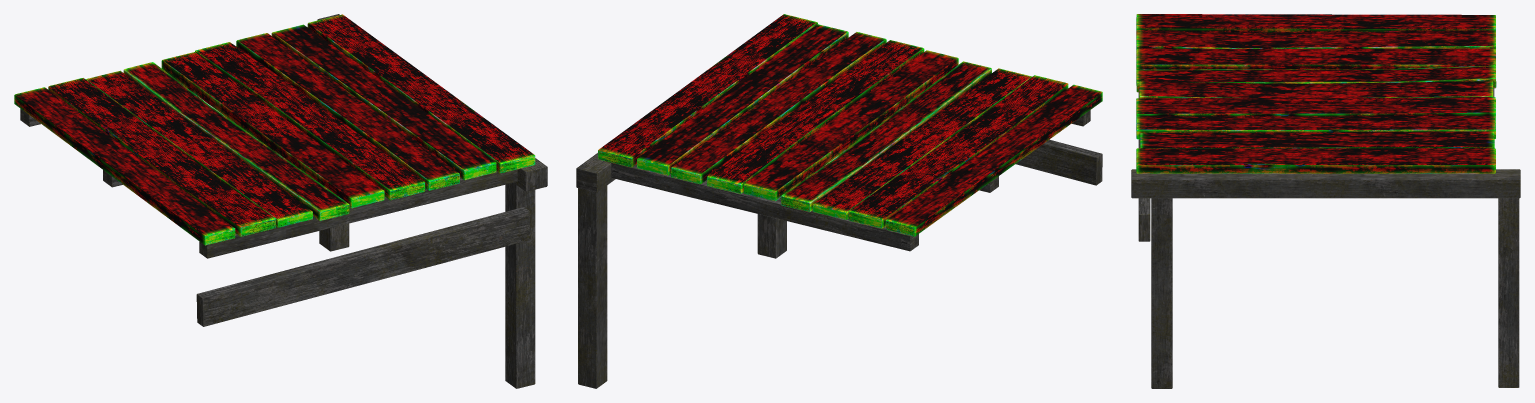
Rendered from SM_PlankFloor_Floor1.fbx.
3 views of the same model, side by side, from view 1: azimuth 30°, elevation 25°; view 2: azimuth 150°, elevation 25°; view 3: azimuth 270°, elevation 25° (orthographic). The views are drawn at different scales.
Visible parts, largest first — view 1: SM_PlankFloor_Floor1_LOD0; view 2: SM_PlankFloor_Floor1_LOD0; view 3: SM_PlankFloor_Floor1_LOD0.
Part boxes in pixels (x1,y1,x2,y2): SM_PlankFloor_Floor1_LOD0: [14, 14, 547, 388]; SM_PlankFloor_Floor1_LOD0: [576, 14, 1102, 388]; SM_PlankFloor_Floor1_LOD0: [1131, 14, 1520, 388].
Size of the model in its own units: 307 by 325 by 204.
